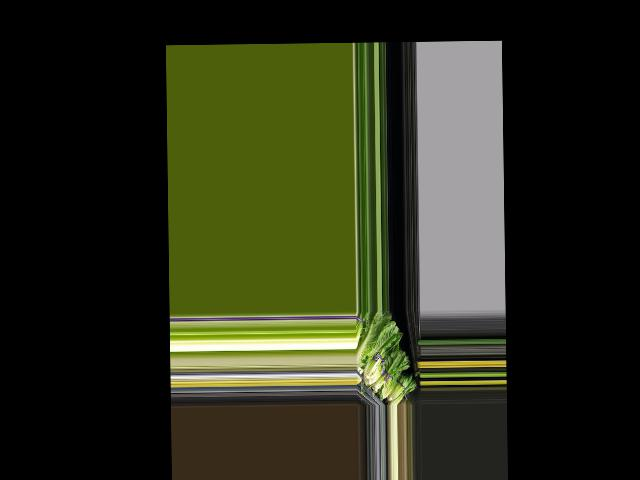lettuce: (358, 312, 396, 366)
